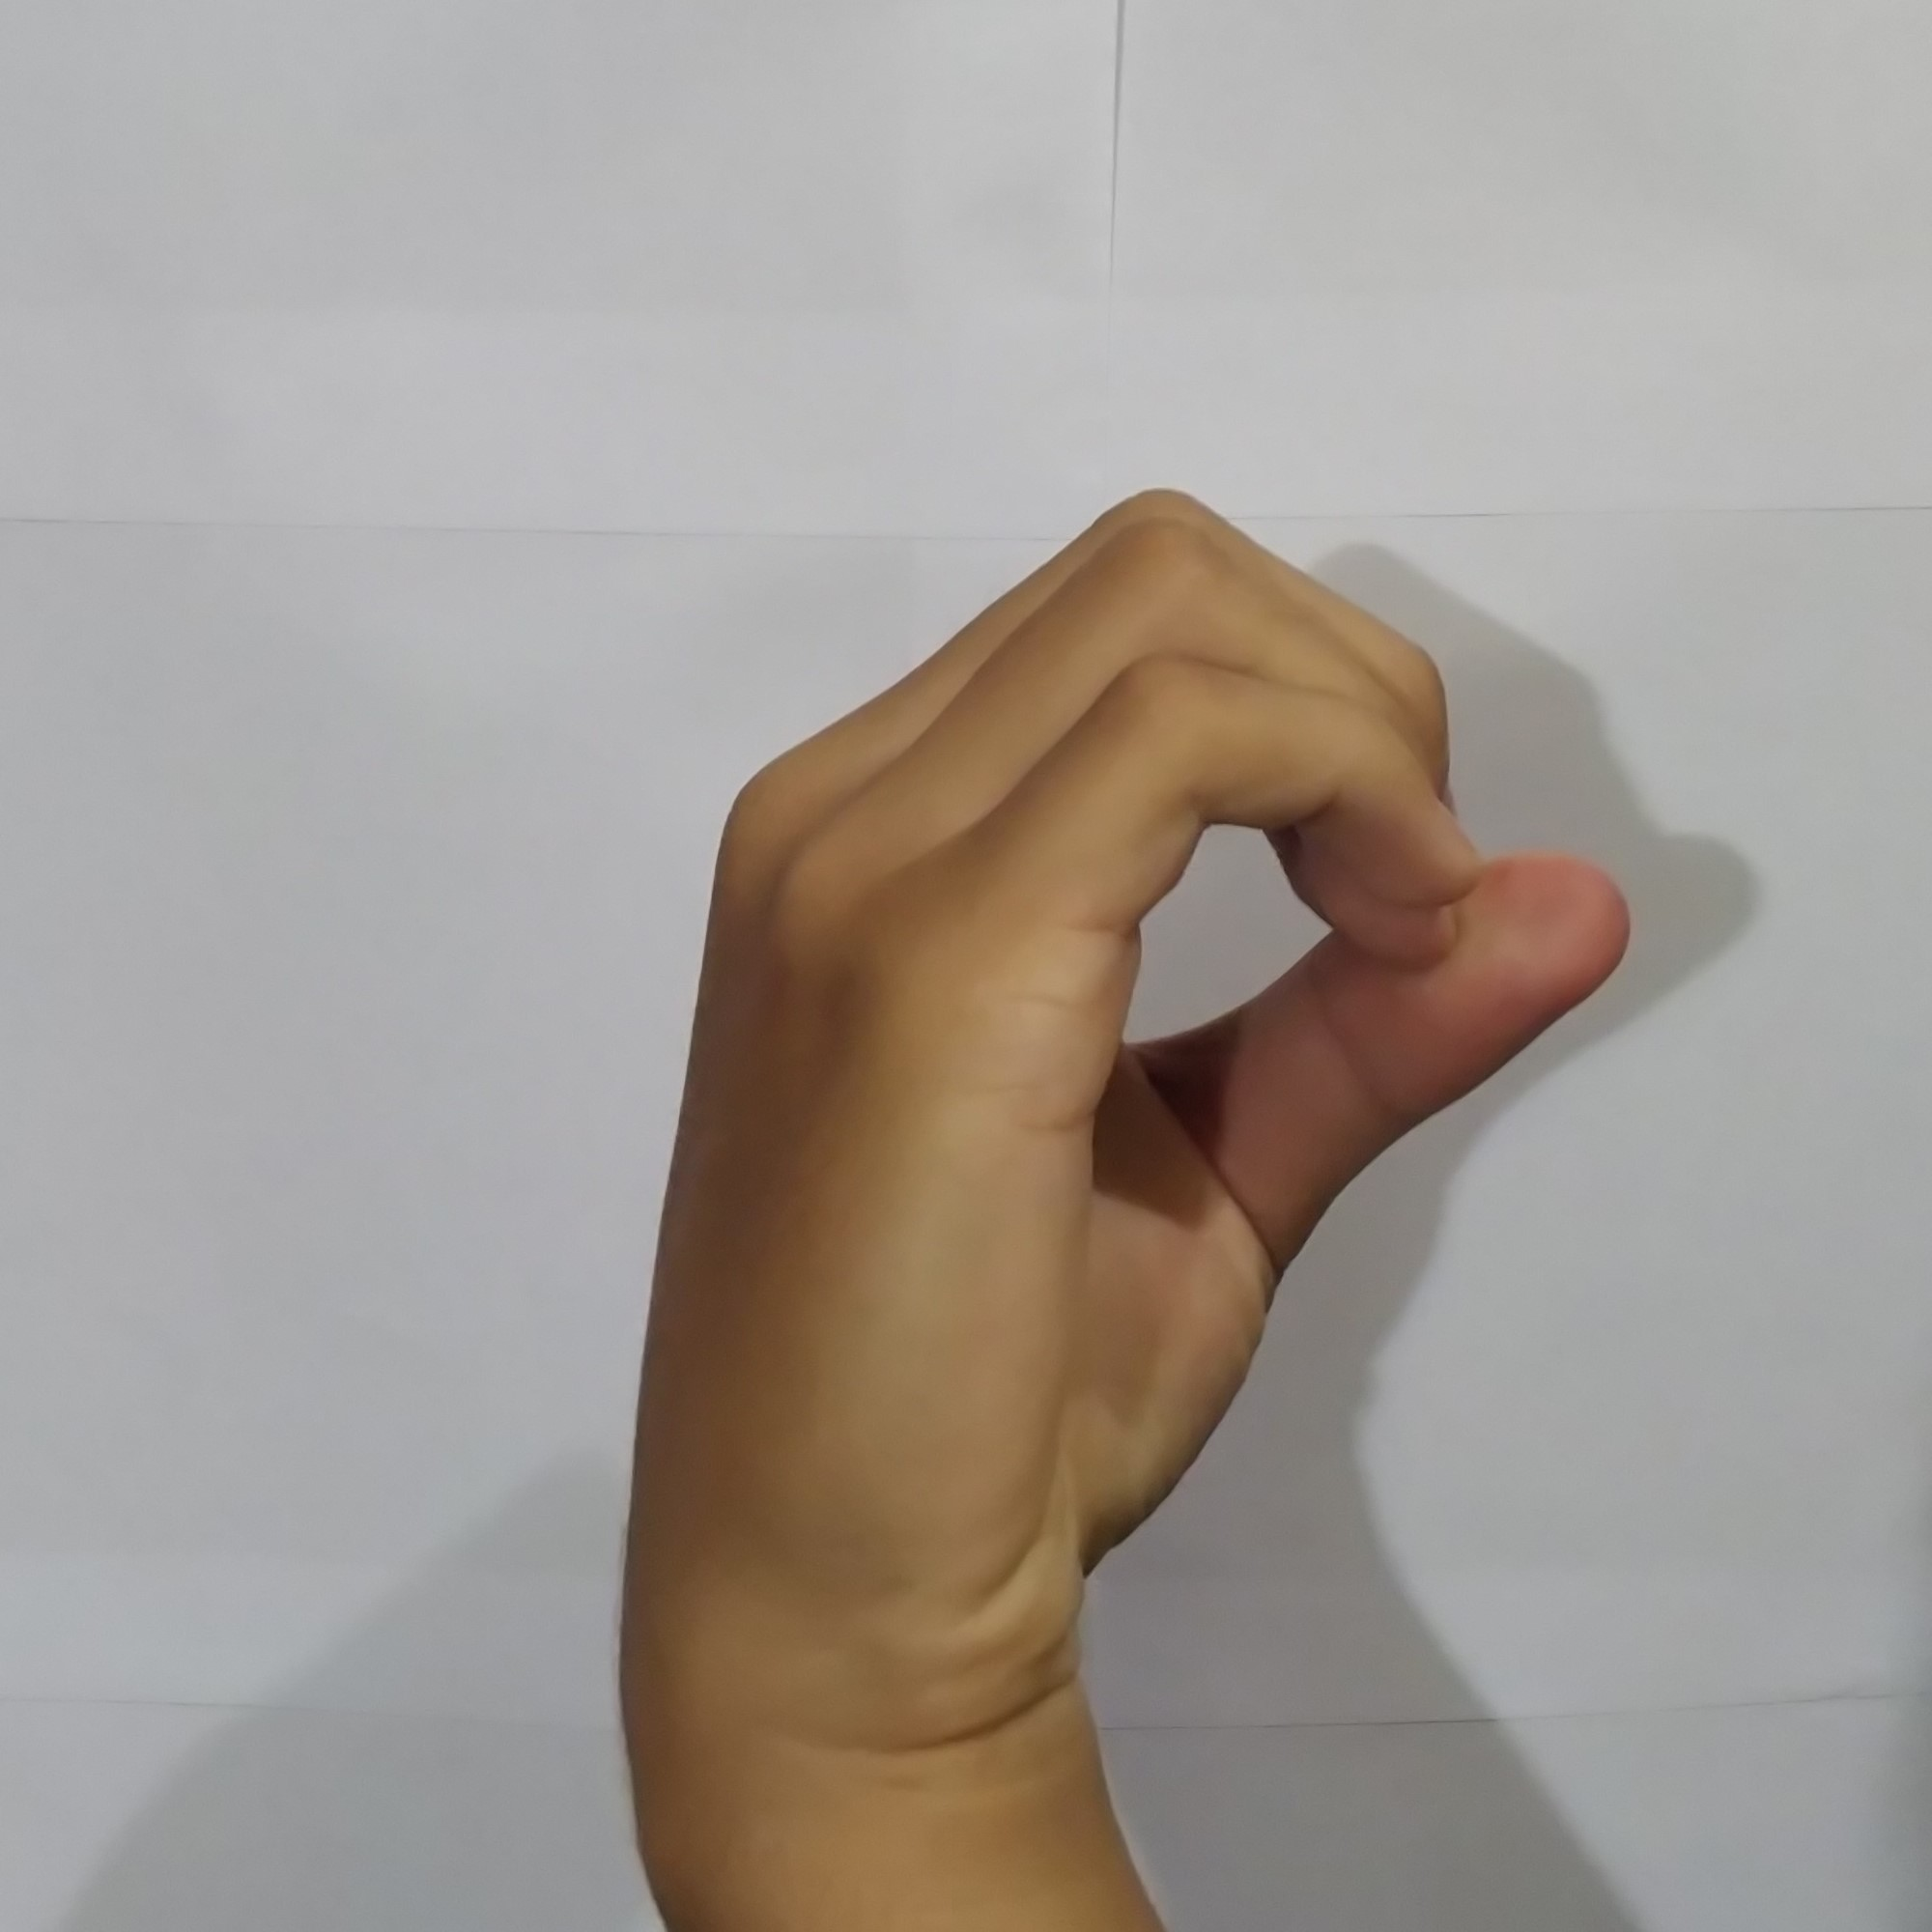O: (612, 462, 1656, 1729)
